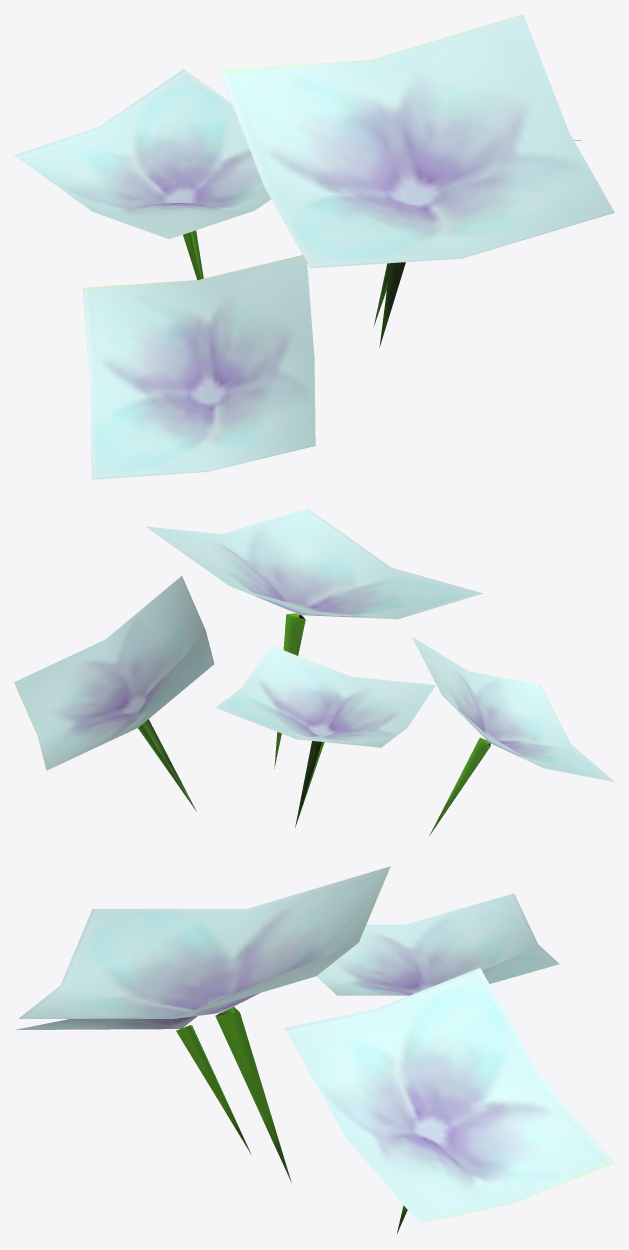
Rendered from 0082_HT_Zd_Miwusenlin_Zhiwu05.glb.
The picture shows the model from 3 angles, top to bottom: view 1: azimuth 30°, elevation 25°; view 2: azimuth 150°, elevation 25°; view 3: azimuth 270°, elevation 25°; orthographic projection. The views are drawn at different scales.
Size of the model in its own units: 2.2 by 1.14 by 1.82.
1 material, 1 textured.
